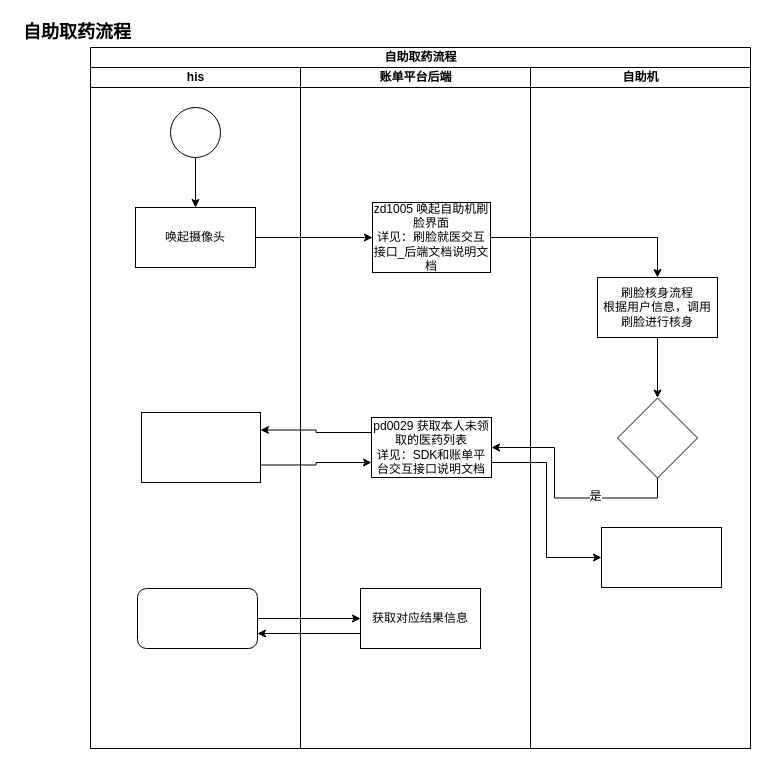
Some shapes in this 768 by 766 pixel diagram are drawn without their labels. Each missing label, with the centre of its shape:
"zd1008 获取未领取医药的信息列表 详见：刷脸就医交互接口_后端文档说明文档" belongs at (200,447).
"展示患者取药列表" belongs at (661,557).
"开始" belongs at (195,132).
"核身通过" belongs at (657,437).
"轮询查询对应结果" belongs at (197,618).
